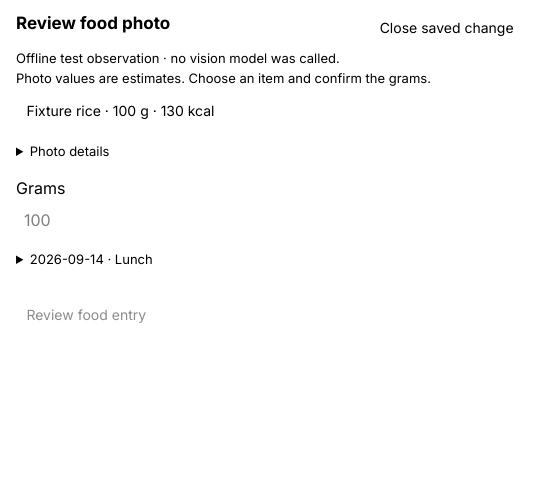
labels the offline observation, writes only after confirmation and renders the canonical Food readback
The image size is (541, 479).
expect the text "Offline test observation · no vision model was called." is shown: met, box [16,50,340,66]
Type "150" into the number field labelled "Grams". click: (270, 220)
box: [16,200,524,240]
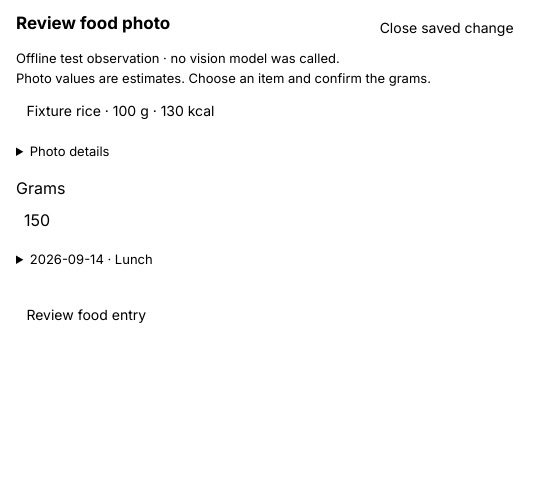
Click the button "Review food entry". click: click(86, 314)
box: [16,292,156,336]
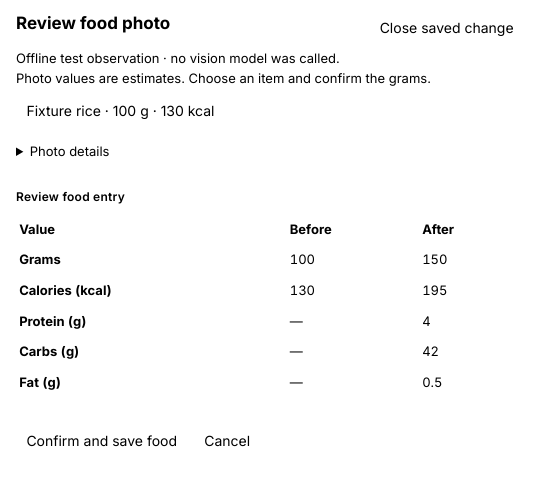
expect the button "Confirm and save food" is shown: met
Click the button "Confirm and save food". click: click(102, 440)
box: [16,418,188,462]
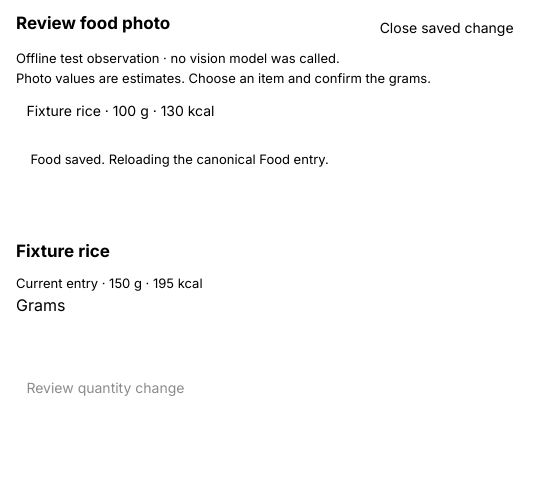
expect the text "Current entry · 150 g · 195 kcal" is shown: met, box [16,275,203,291]
